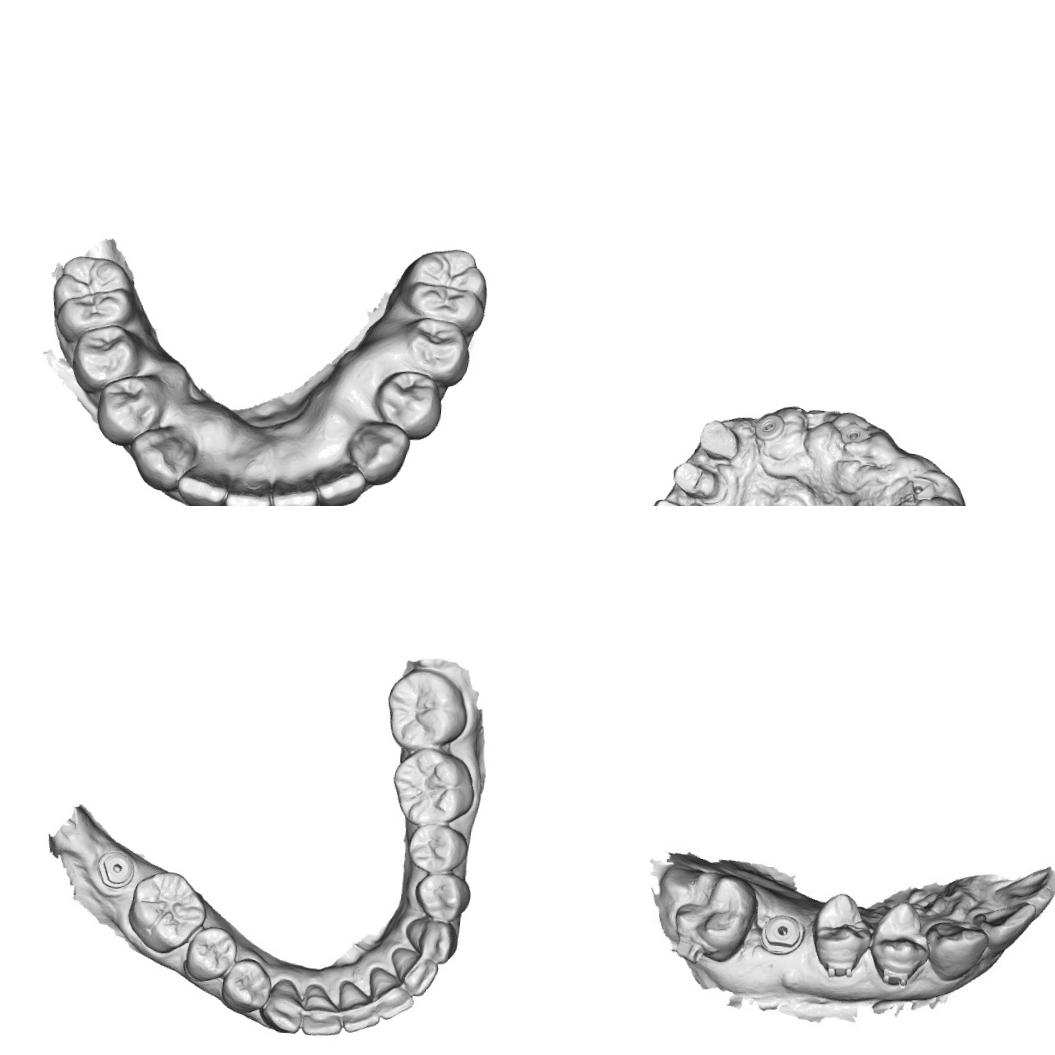canine: (344, 418, 413, 491), (124, 424, 198, 492), (926, 923, 992, 982), (401, 907, 462, 966), (258, 974, 308, 1035)
crown: (670, 459, 721, 500), (696, 417, 742, 462), (647, 495, 702, 506)
implant: (754, 910, 807, 965), (92, 847, 137, 893), (752, 410, 786, 443), (836, 418, 874, 445)
incisor: (298, 975, 350, 1040), (366, 964, 418, 1024), (334, 973, 385, 1034), (386, 943, 442, 998), (976, 900, 1032, 949), (999, 864, 1055, 910), (317, 460, 368, 502), (175, 471, 229, 506), (268, 474, 323, 506), (222, 475, 273, 506)
molar: (46, 250, 141, 346), (667, 866, 754, 966), (122, 866, 212, 958), (394, 240, 490, 326), (382, 664, 470, 756), (386, 745, 478, 831)
premolar: (807, 887, 873, 975), (68, 319, 144, 395), (867, 896, 929, 986), (370, 366, 442, 440), (90, 373, 162, 446), (404, 312, 475, 386), (179, 922, 238, 988), (404, 820, 472, 876), (218, 952, 275, 1016), (410, 869, 474, 924)
